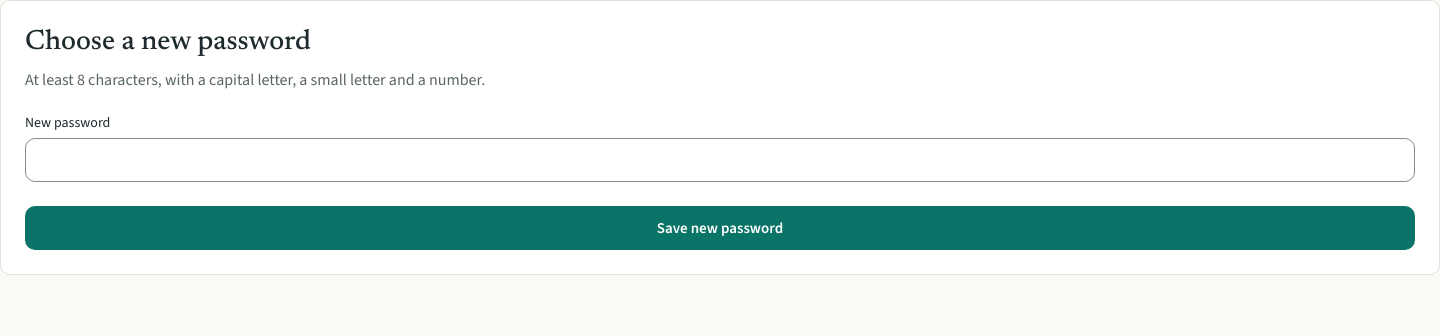
UpdatePasswordForm › a weak password error is shown
The image size is (1440, 336).
In the password field labelled "New password": [720, 160] box [25,138,1415,182], type "Password123!"
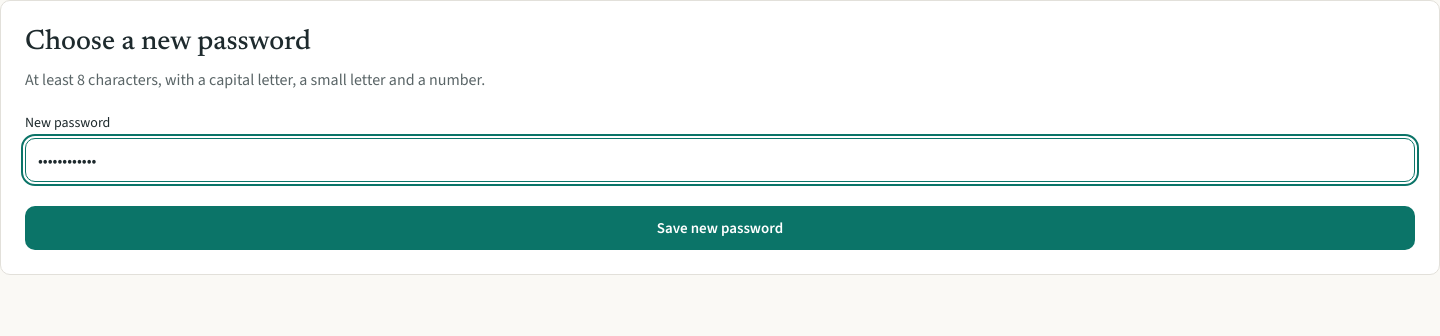
Click the button "Save new password": [720, 228] box [25,206,1415,250]
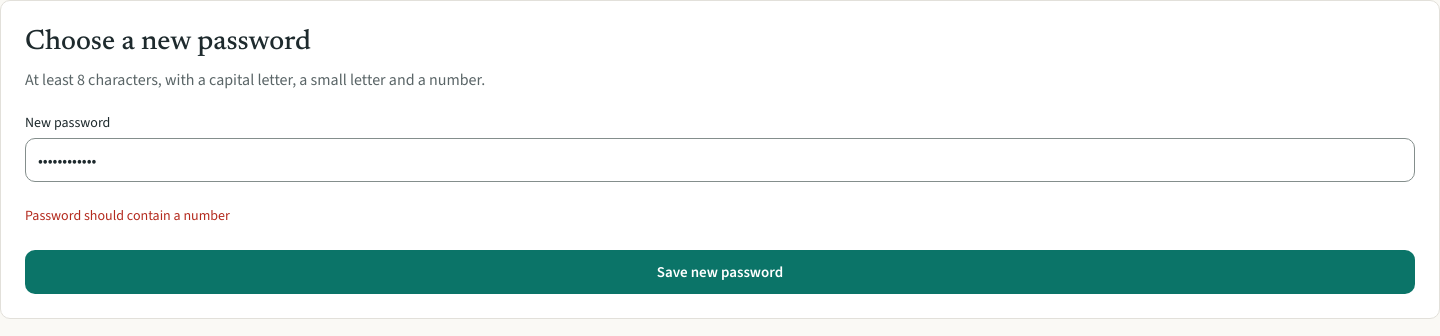
Check: the message reads "Password should contain a number", box [25,206,230,225]
